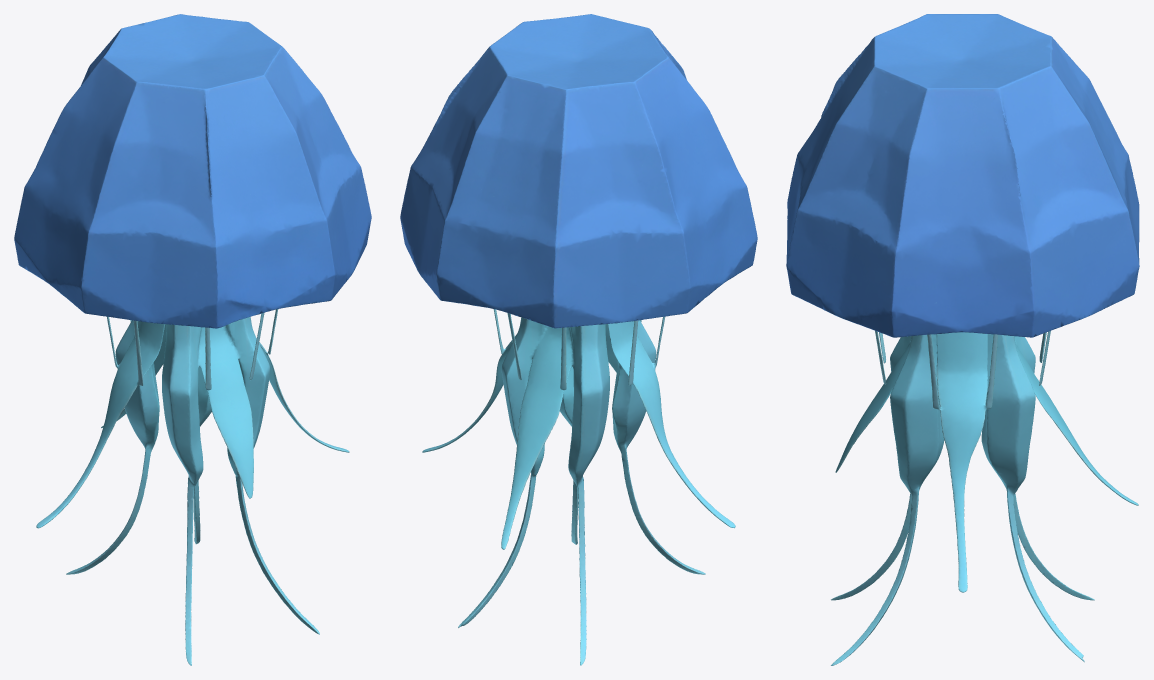
File: oceano_agua_viva_blue.glb
3 renders of one model, left to right at view 1: azimuth 30°, elevation 25°; view 2: azimuth 150°, elevation 25°; view 3: azimuth 270°, elevation 25°, orthographic. The views are drawn at different scales.
Size of the model in its own units: 1.09 by 1.84 by 1.01.
1 material, 1 textured.
